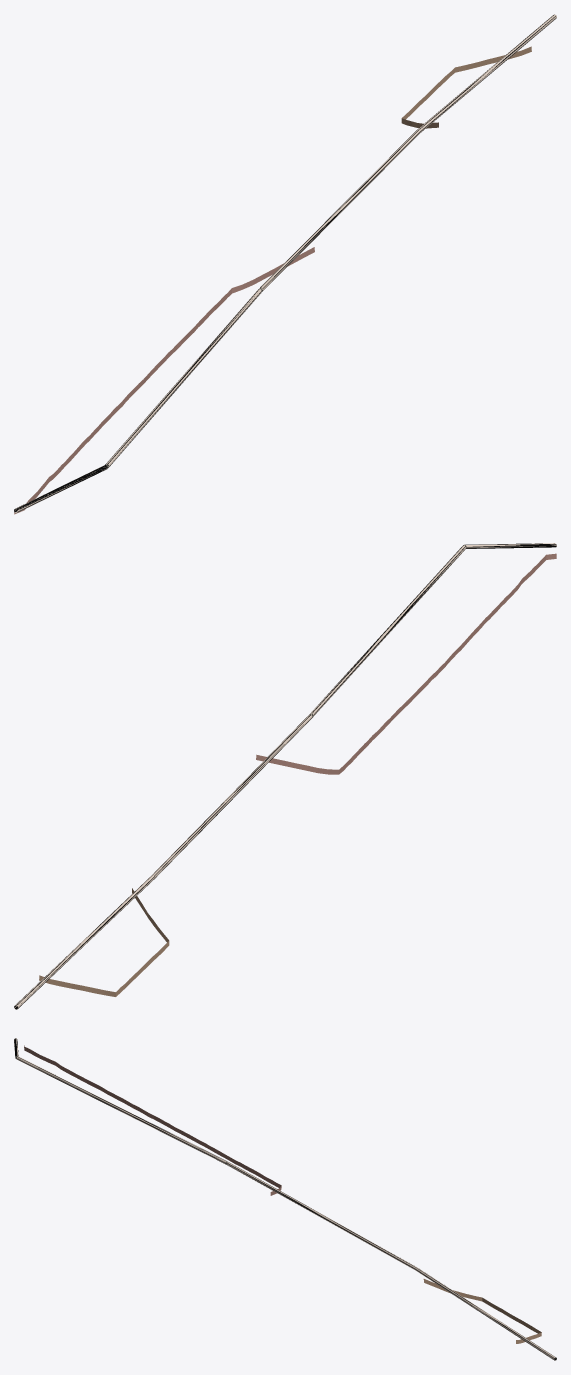
File: pipeline_segment3.dae
3 renders of one model, top to bottom at view 1: azimuth 30°, elevation 25°; view 2: azimuth 210°, elevation 25°; view 3: azimuth 270°, elevation 25°, orthographic. The views are drawn at different scales.
Visible parts, largest first — view 1: pipeline_segment3_a2000, pipeline_segment3_a1000; view 2: pipeline_segment3_a2000, pipeline_segment3_a1000; view 3: pipeline_segment3_a2000, pipeline_segment3_a1000.
Part boxes in pixels (left/top/right/bottom): pipeline_segment3_a2000: left=14, top=14, right=556, bottom=514; pipeline_segment3_a1000: left=14, top=14, right=556, bottom=512; pipeline_segment3_a2000: left=14, top=543, right=556, bottom=1009; pipeline_segment3_a1000: left=14, top=543, right=556, bottom=1009; pipeline_segment3_a2000: left=14, top=1038, right=556, bottom=1360; pipeline_segment3_a1000: left=14, top=1038, right=556, bottom=1360.
Bounding box in the file's own units: 330 × 228 × 12.67.
